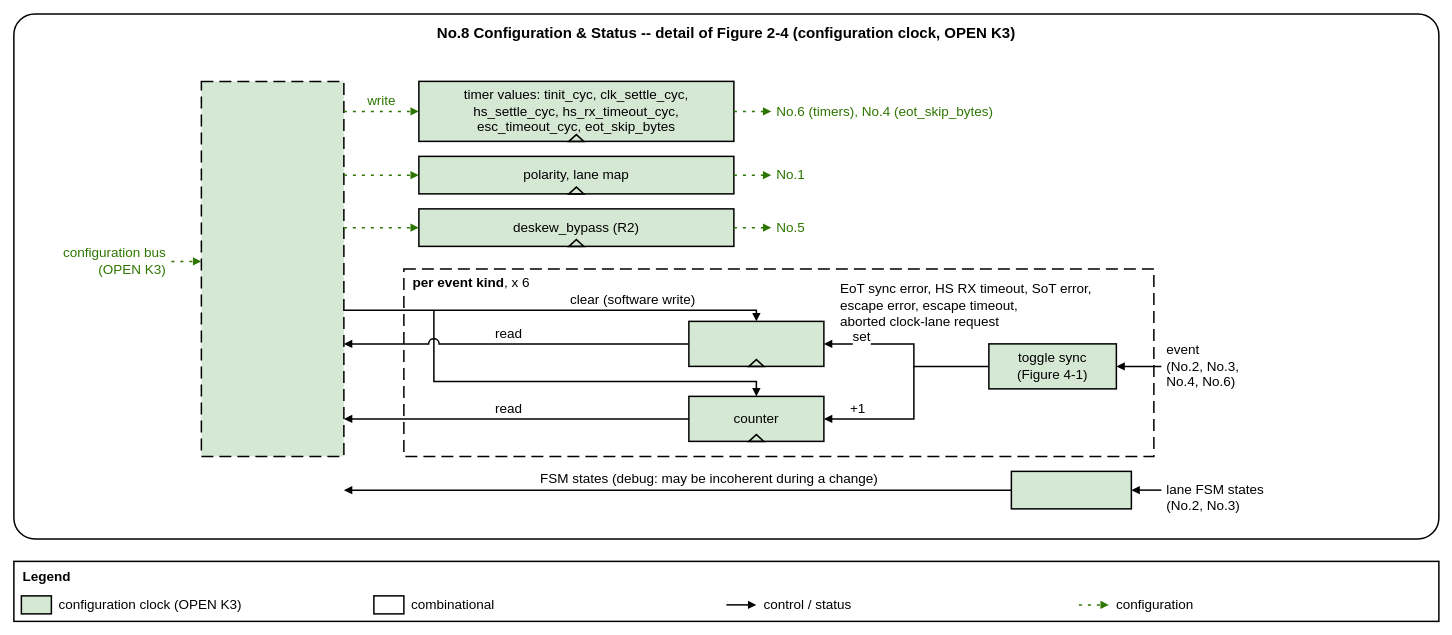
This 1452x635 diagram has some shape labels left out. Here are the shapes that lost their labels. From the top down, the centre of each, then its label:
point 272,268: bus interface boundary only: OPEN K3, ADR-005; register map chapter 6
point 756,343: sticky flag
point 1071,489: 2-flop sync
